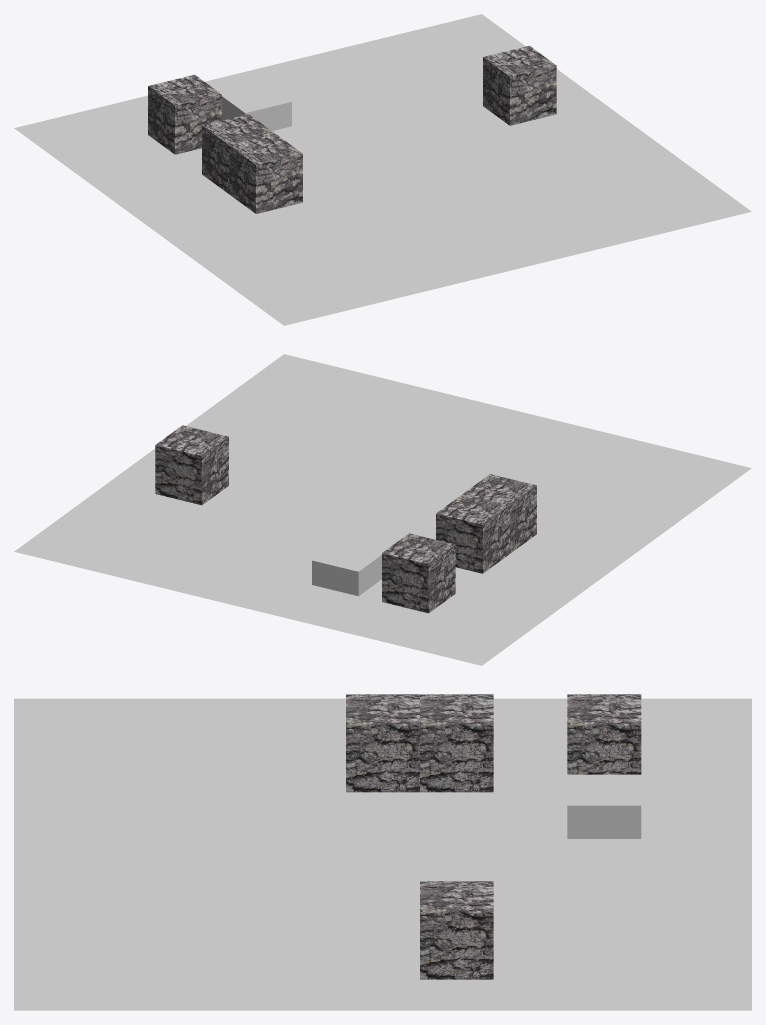
File: test_light_1.gltf
The picture shows the model from 3 angles, top to bottom: view 1: azimuth 30°, elevation 25°; view 2: azimuth 150°, elevation 25°; view 3: azimuth 270°, elevation 25°; orthographic projection. The views are drawn at different scales.
Visible parts, largest first — view 1: Plane, Cube.004, Cube, Cube.002, Cube.001, Cube.003; view 2: Plane, Cube.002, Cube.004, Cube.001, Cube.003, Cube; view 3: Plane, Cube, Cube.001, Cube.004, Cube.002, Cube.003.
Boxes of the visible parts, x1,y1,x2,y2 form: Plane: (14, 14, 751, 325); Cube.004: (483, 45, 556, 125); Cube: (229, 134, 302, 213); Cube.002: (148, 74, 221, 154); Cube.001: (202, 114, 275, 193); Cube.003: (220, 82, 291, 130); Plane: (14, 354, 751, 665); Cube.002: (382, 533, 455, 613); Cube.004: (155, 425, 228, 505); Cube.001: (436, 494, 509, 573); Cube.003: (312, 540, 383, 596); Cube: (463, 474, 536, 553); Plane: (14, 698, 751, 1010); Cube: (346, 694, 419, 792); Cube.001: (420, 694, 493, 792); Cube.004: (420, 881, 493, 979); Cube.002: (567, 694, 641, 774); Cube.003: (567, 774, 641, 838).
Size of the model in its own units: 20 by 3 by 20.
2 materials, 1 textured.
